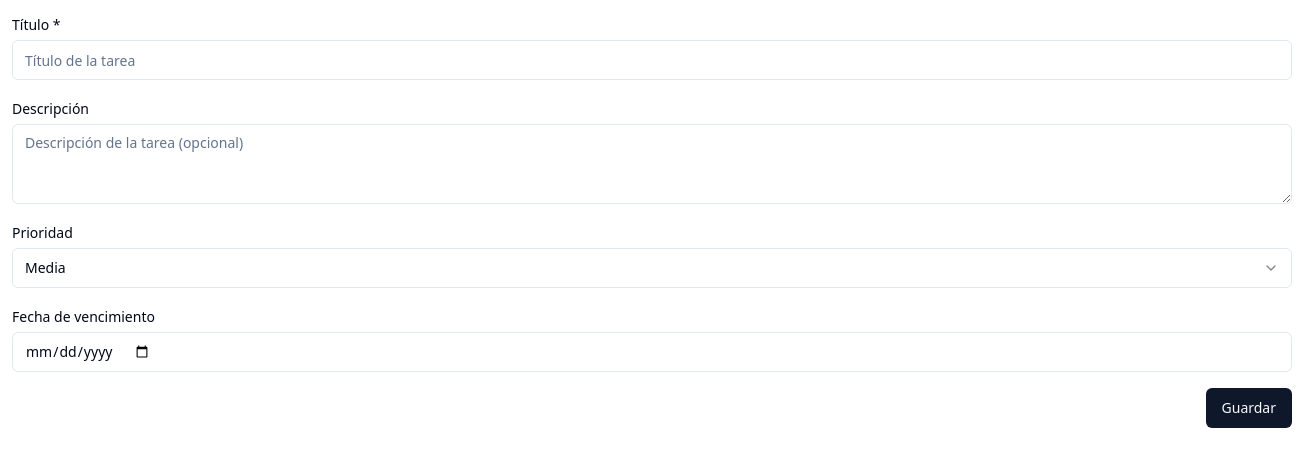
Test case: TaskForm › muestra error de validación y no hace submit cuando el título está vacío
The image size is (1304, 465).
Step 1. Click the button "Guardar" → (1249, 408), box [1206, 388, 1292, 428]
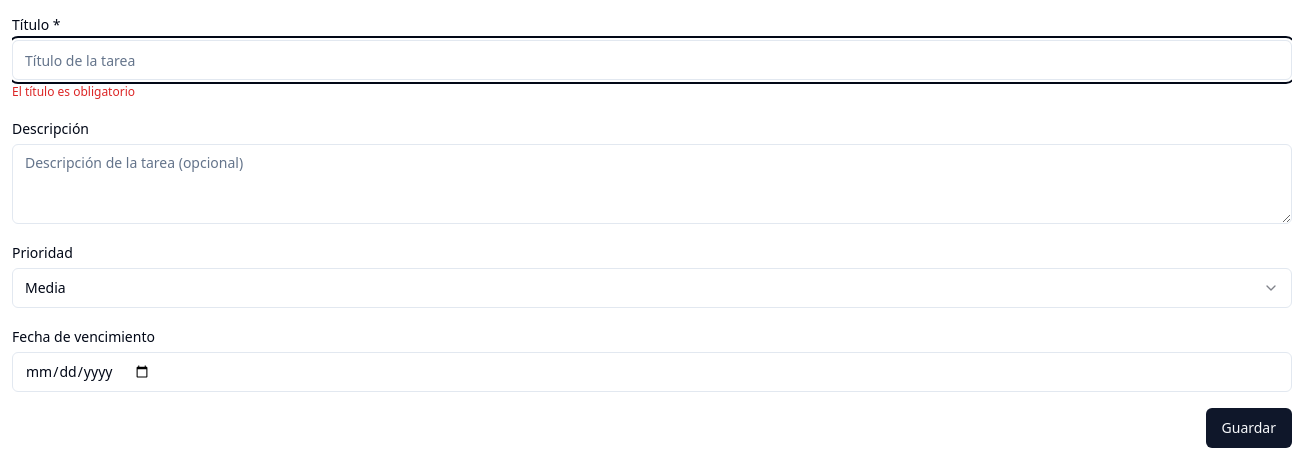
Check: the text "El título es obligatorio" is shown, box [12, 83, 135, 100]
